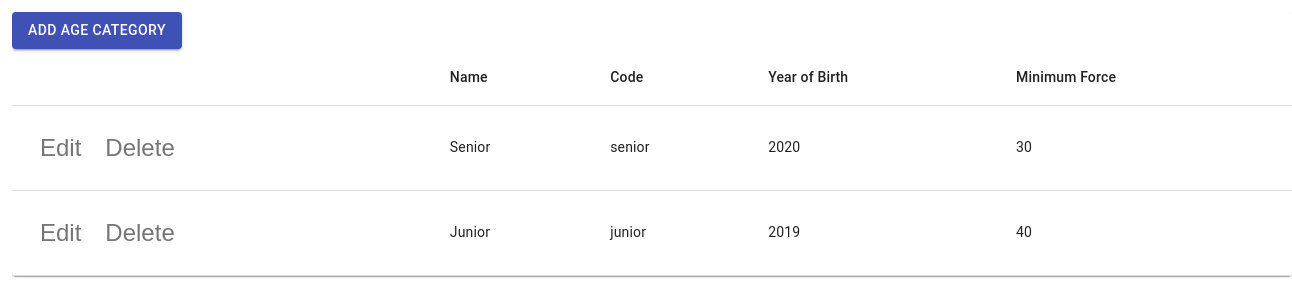
Test: AgeCategoryList - delete › should delete an age category
The image size is (1292, 295).
Expected: the text "Senior" is shown, [434, 105, 594, 190]
Expected: the text "senior" is shown, [594, 105, 752, 190]
Click the button with test id "delete-button-2" at (140, 232), box [93, 206, 187, 258]
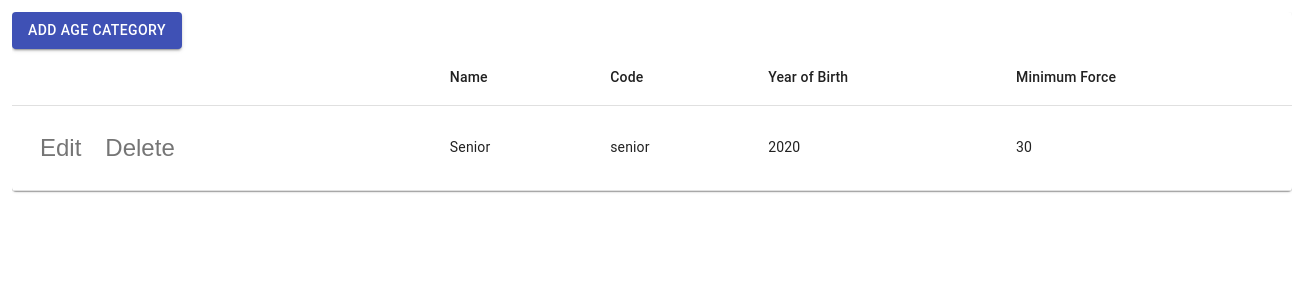
Now the text "Junior" is gone
Now the text "2019" is gone
Now the text "40" is gone
